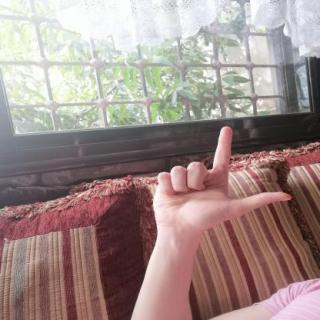LAAM: (144, 119, 299, 236)
